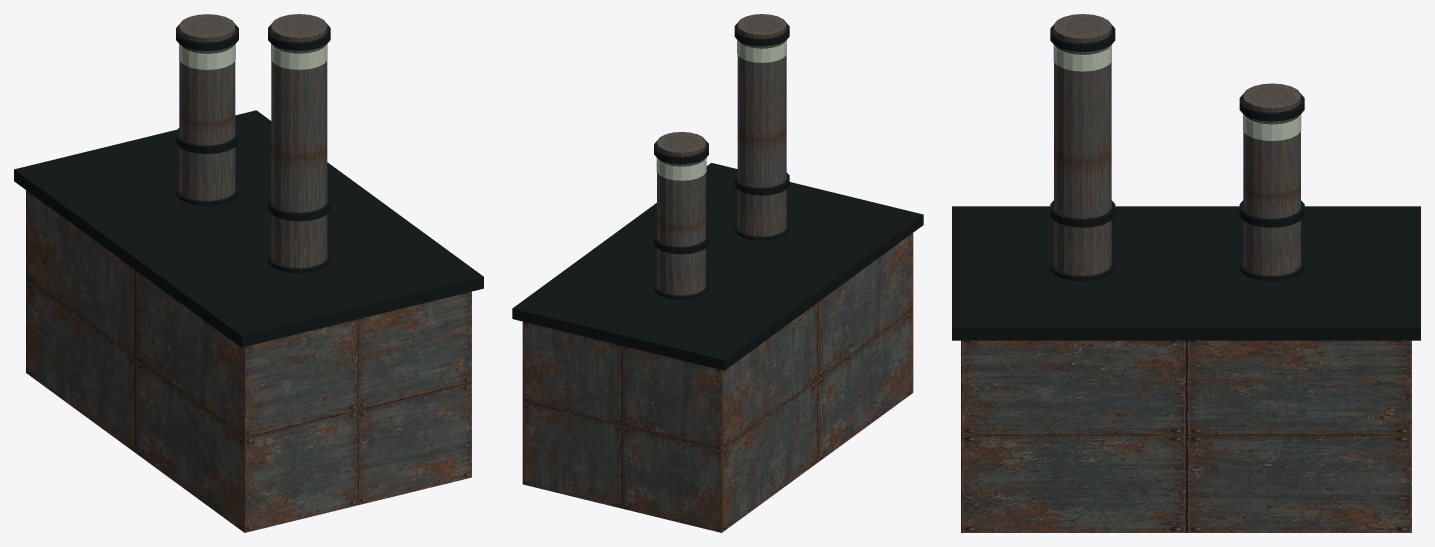
Rendered from CoolingPlant.obj.
3 renders of one model, left to right at view 1: azimuth 30°, elevation 25°; view 2: azimuth 150°, elevation 25°; view 3: azimuth 270°, elevation 25°, orthographic. The views are drawn at different scales.
Parts seen in each view (by area): view 1: CoolingPlant; view 2: CoolingPlant; view 3: CoolingPlant.
Boxes of the visible parts, bbox=[...] form: CoolingPlant: bbox=[14, 14, 483, 532]; CoolingPlant: bbox=[512, 14, 923, 532]; CoolingPlant: bbox=[952, 14, 1420, 532].
Bounding box in the file's own units: 6.4 × 11 × 10.4.
3 materials, 1 textured.
